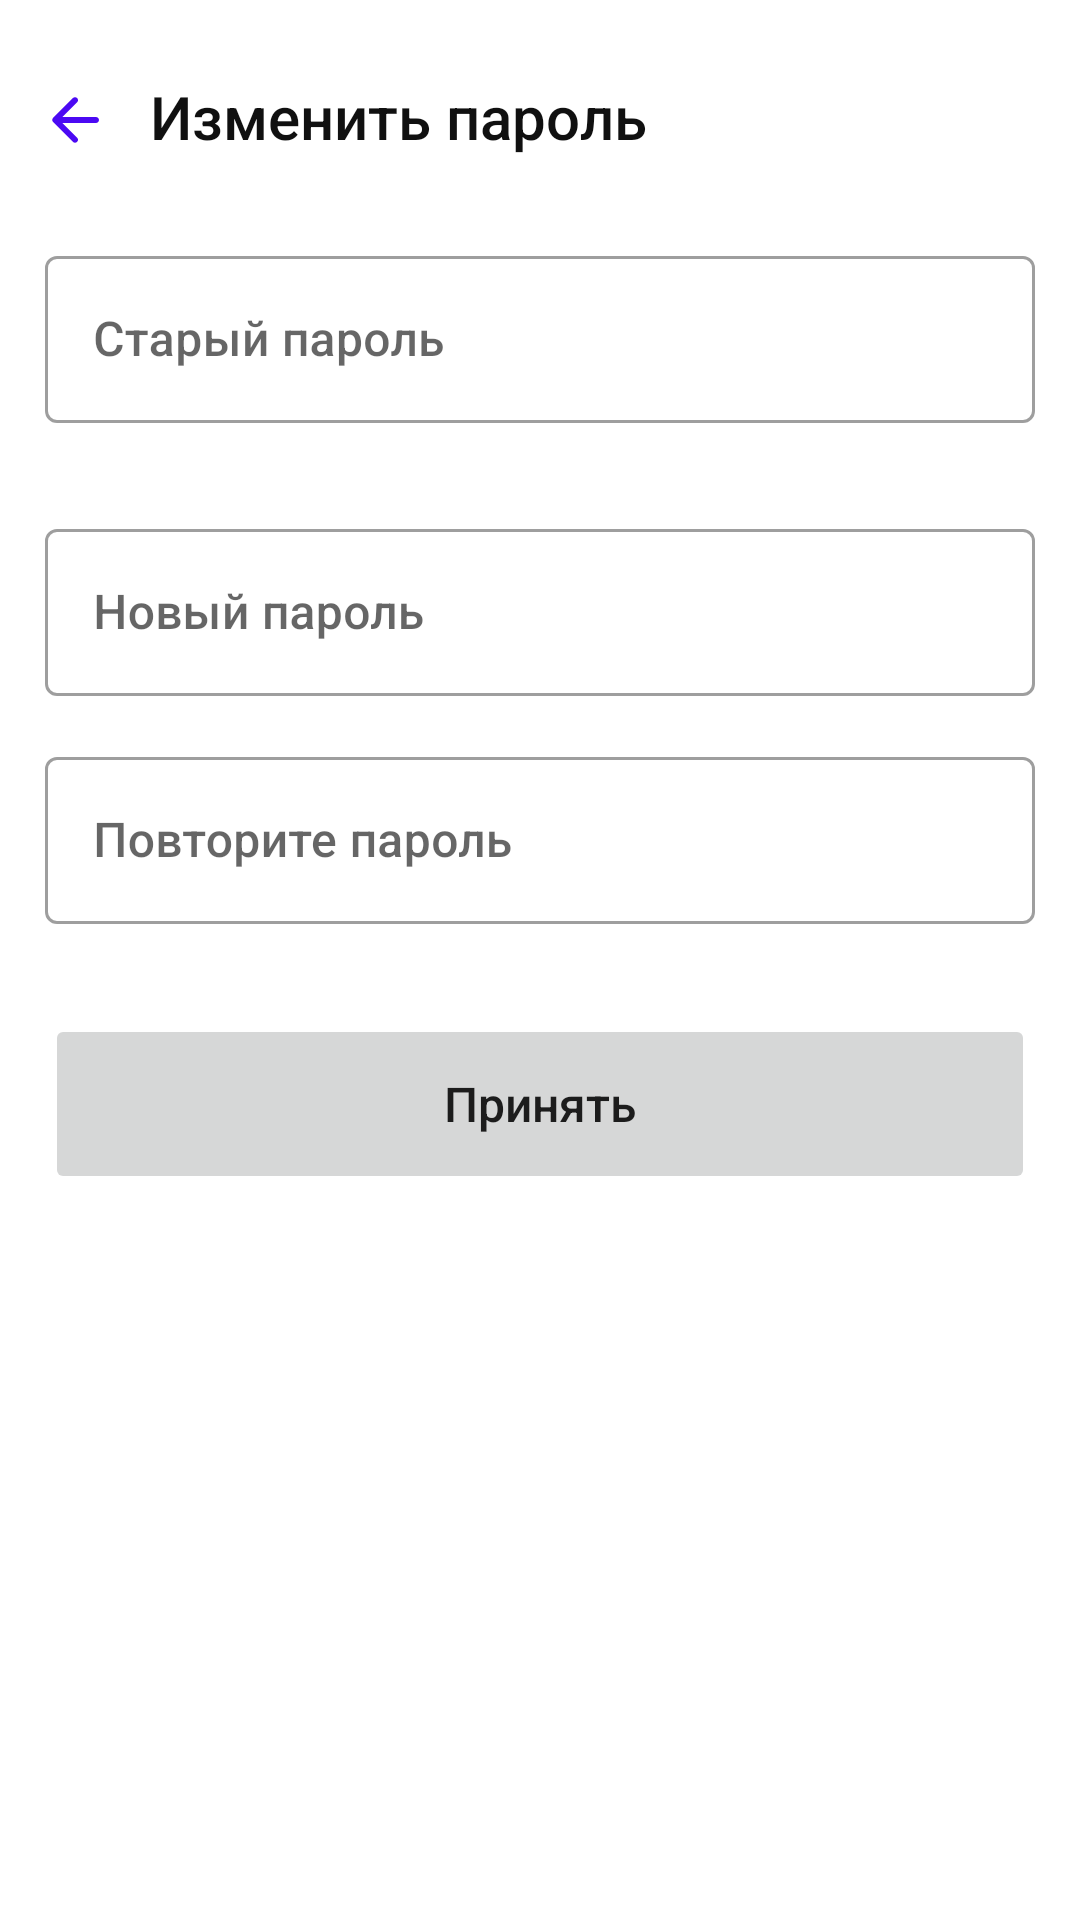

Named icons in this screenshot (1080px x 1920px) and their bounding boxes, detection(x1, y1, x2, y2):
arrow back: detection(52, 97, 99, 143)
